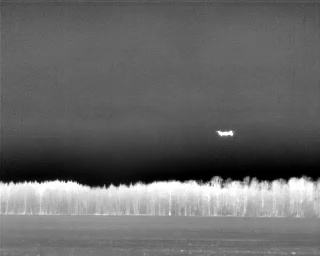DRONE: (212, 124, 239, 143)
